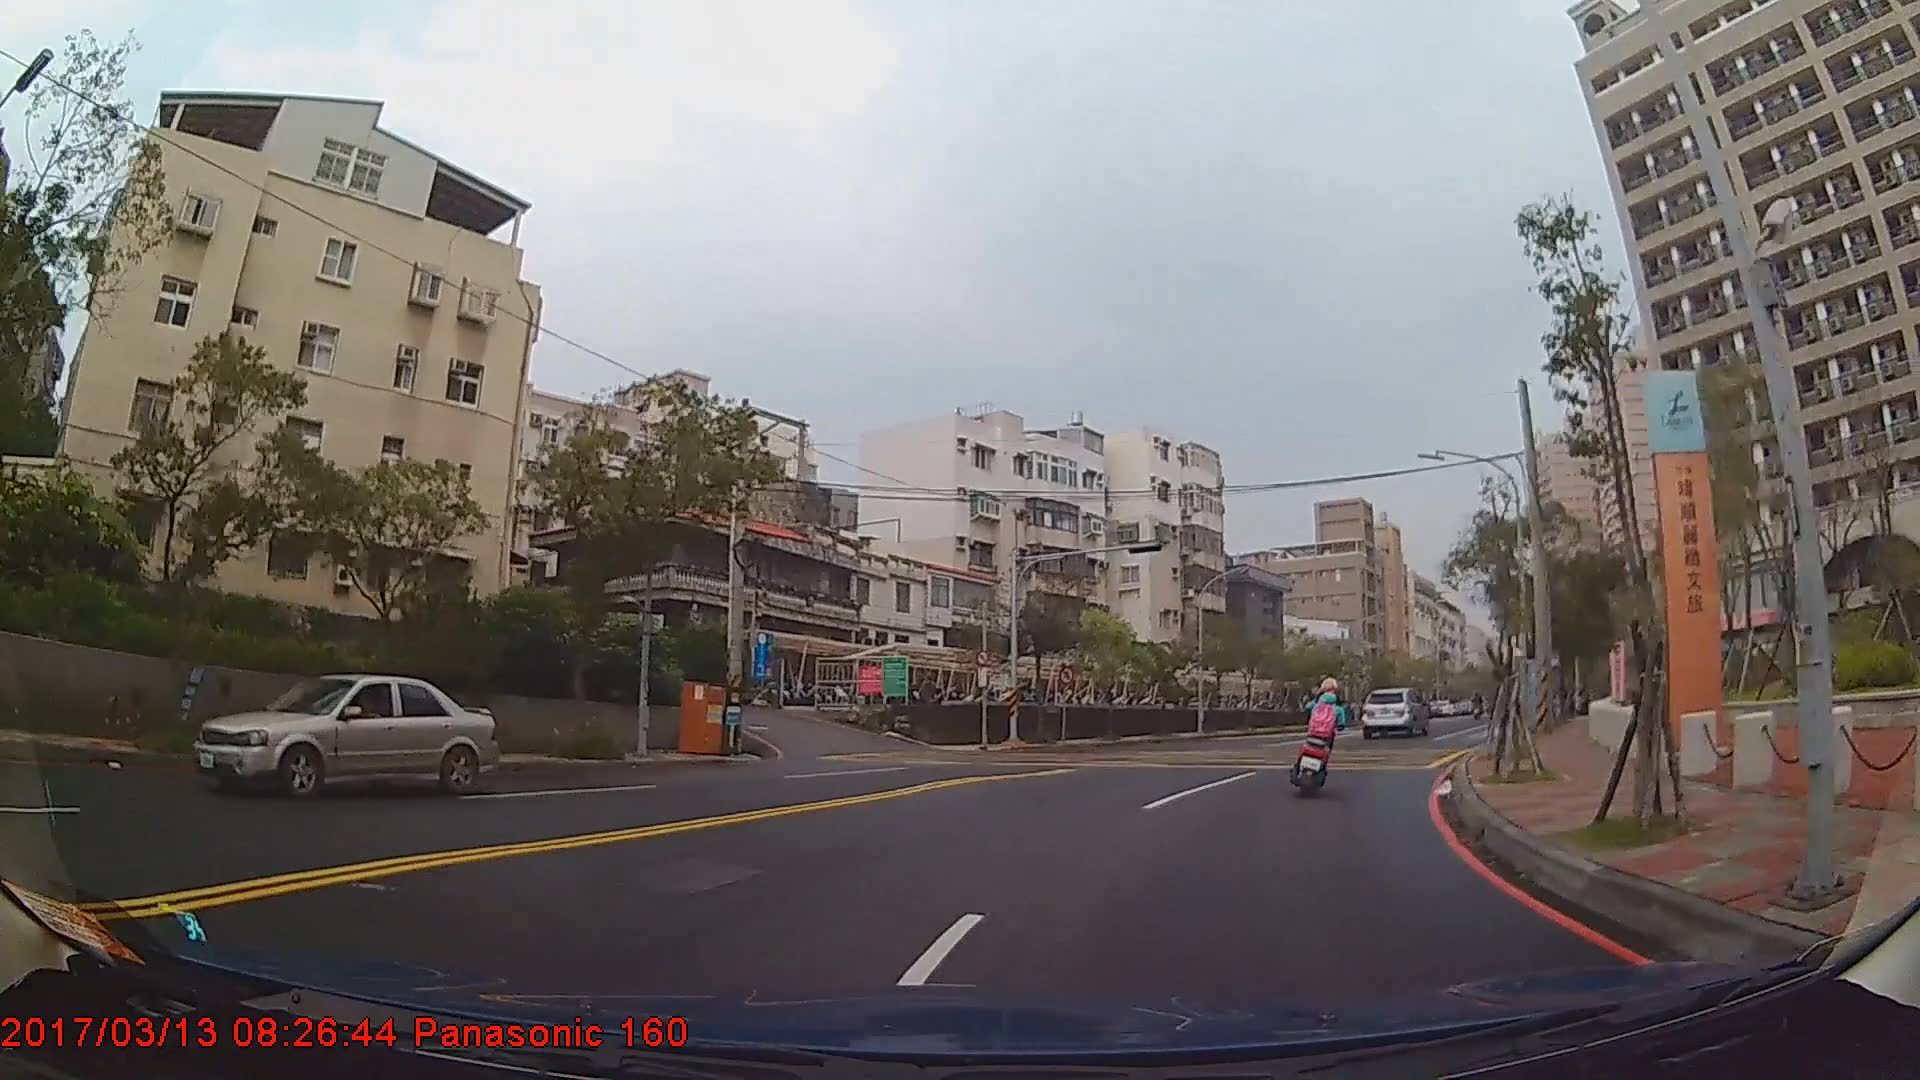rider: (1292, 676, 1351, 792)
vehicle: (193, 673, 499, 800), (1359, 687, 1425, 738)
